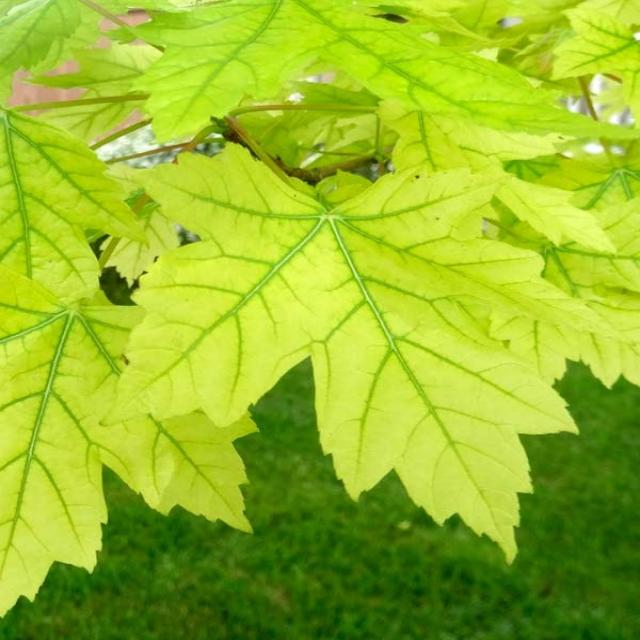Chlorosis: (14, 0, 623, 607)
